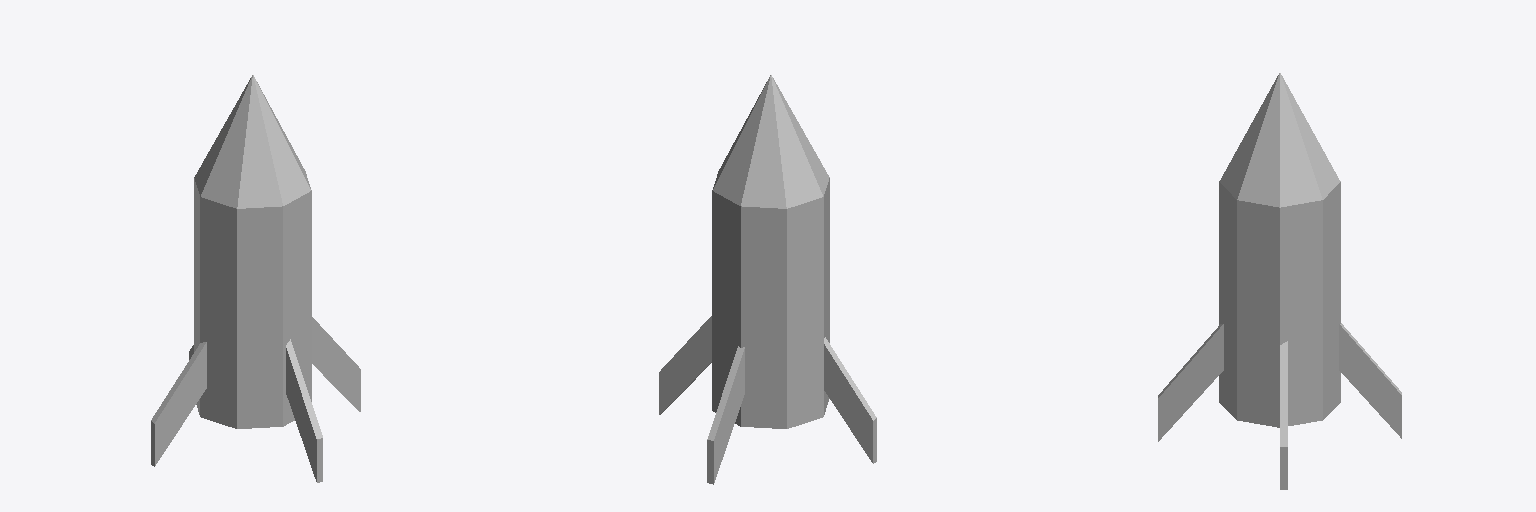
Rendered from Ship.obj.
The picture shows the model from 3 angles: view 1: azimuth 30°, elevation 25°; view 2: azimuth 150°, elevation 25°; view 3: azimuth 270°, elevation 25°; orthographic projection.
Visible parts, largest first — view 1: Ship; view 2: Ship; view 3: Ship.
Boxes of the visible parts, <box> form: Ship: <box>151,75,360,482</box>; Ship: <box>659,75,876,484</box>; Ship: <box>1158,73,1401,489</box>.
Bounding box in the file's own units: 2 × 3.32 × 2.